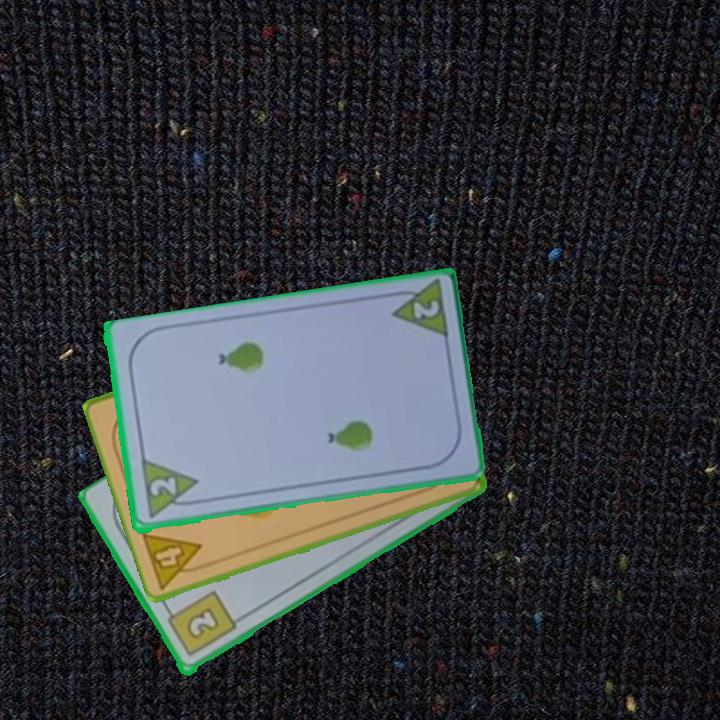2b: (162, 588, 239, 660)
2p: (383, 278, 451, 344), (137, 457, 203, 522)
4p: (138, 529, 214, 592)
